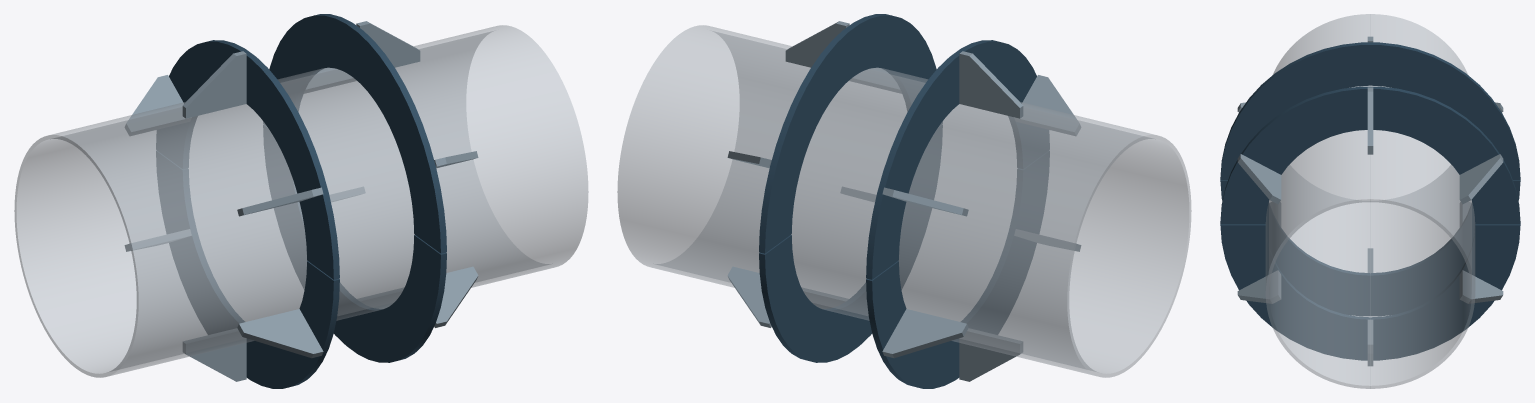
The model's file is TS-666.00.00-07-opora-dn426-D610.glb.
3 renders of one model, left to right at view 1: azimuth 30°, elevation 25°; view 2: azimuth 150°, elevation 25°; view 3: azimuth 270°, elevation 25°, orthographic. The views are drawn at different scales.
Visible parts, largest first — view 1: truba, polukoltso_1, polukoltso_5, polukoltso_13, polukoltso_9, rebro_7, rebro_14, rebro_15, rebro_6, rebro_10, rebro_3, rebro_8 (+3 smaller); view 2: truba, polukoltso_1, polukoltso_5, polukoltso_13, polukoltso_9, rebro_7, rebro_16, rebro_15, rebro_8, rebro_12, rebro_3, rebro_6 (+3 smaller); view 3: truba, polukoltso_1, polukoltso_9, polukoltso_5, polukoltso_13, rebro_2, rebro_4, rebro_10, rebro_12, rebro_3, rebro_11.
Part boxes in pixels (x1,y1,x2,y2): truba: [14, 25, 588, 377]; polukoltso_1: [263, 14, 446, 253]; polukoltso_5: [156, 40, 339, 279]; polukoltso_13: [156, 151, 339, 388]; polukoltso_9: [263, 125, 446, 362]; rebro_7: [182, 51, 246, 118]; rebro_14: [237, 309, 323, 358]; rebro_15: [183, 328, 246, 381]; rebro_6: [125, 75, 190, 135]; rebro_10: [434, 266, 478, 327]; rebro_3: [356, 21, 420, 67]; rebro_8: [237, 187, 323, 216]; truba: [617, 25, 1191, 377]; polukoltso_1: [759, 14, 942, 253]; polukoltso_5: [866, 40, 1049, 279]; polukoltso_13: [866, 151, 1049, 388]; polukoltso_9: [759, 125, 942, 362]; rebro_7: [959, 51, 1023, 118]; rebro_16: [882, 309, 968, 358]; rebro_15: [959, 328, 1022, 381]; rebro_8: [1015, 75, 1080, 135]; rebro_12: [727, 266, 771, 327]; rebro_3: [785, 21, 849, 67]; rebro_6: [882, 187, 968, 216]; truba: [1265, 14, 1475, 388]; polukoltso_1: [1220, 86, 1520, 224]; polukoltso_9: [1220, 224, 1520, 360]; polukoltso_5: [1220, 42, 1520, 180]; polukoltso_13: [1220, 180, 1520, 316]; rebro_2: [1459, 154, 1503, 204]; rebro_4: [1237, 154, 1281, 204]; rebro_10: [1237, 270, 1281, 303]; rebro_12: [1459, 270, 1503, 303]; rebro_3: [1367, 87, 1373, 154]; rebro_11: [1367, 319, 1373, 366].
Bounding box in the file's own units: 890 × 616 × 610.
